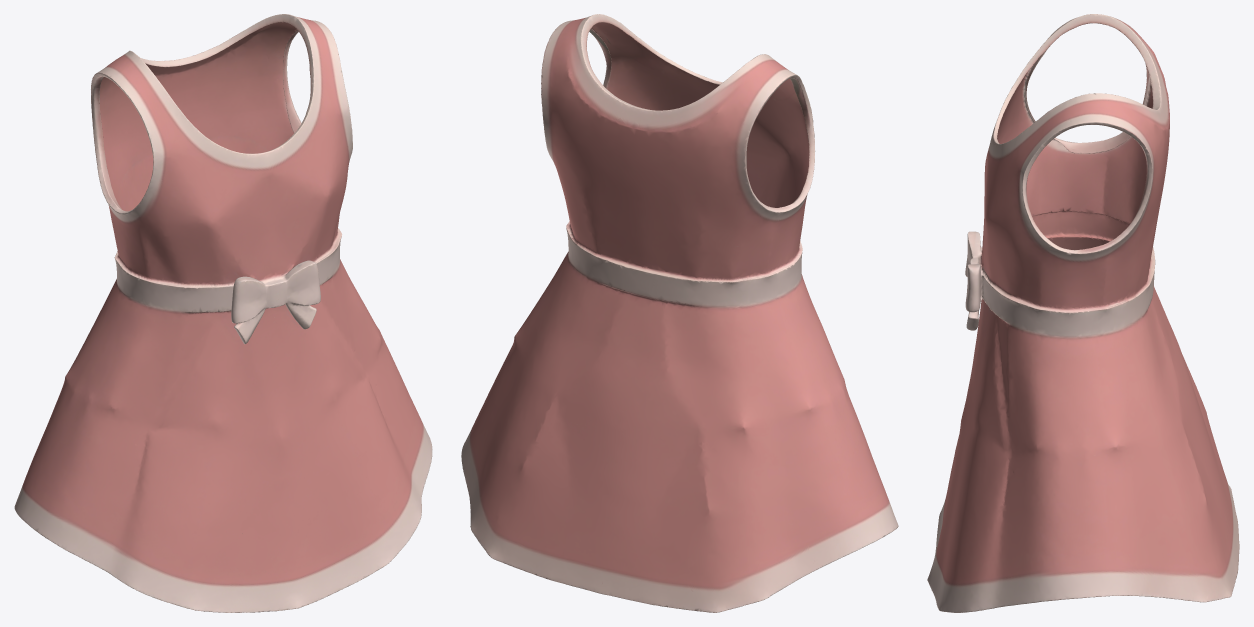
Rendered from vestidorosa.glb.
The picture shows the model from 3 angles, left to right: view 1: azimuth 30°, elevation 25°; view 2: azimuth 150°, elevation 25°; view 3: azimuth 270°, elevation 25°; orthographic projection. The views are drawn at different scales.
Size of the model in its own units: 1.53 by 1.9 by 1.02.
Materials: 1 (1 with a texture image).
